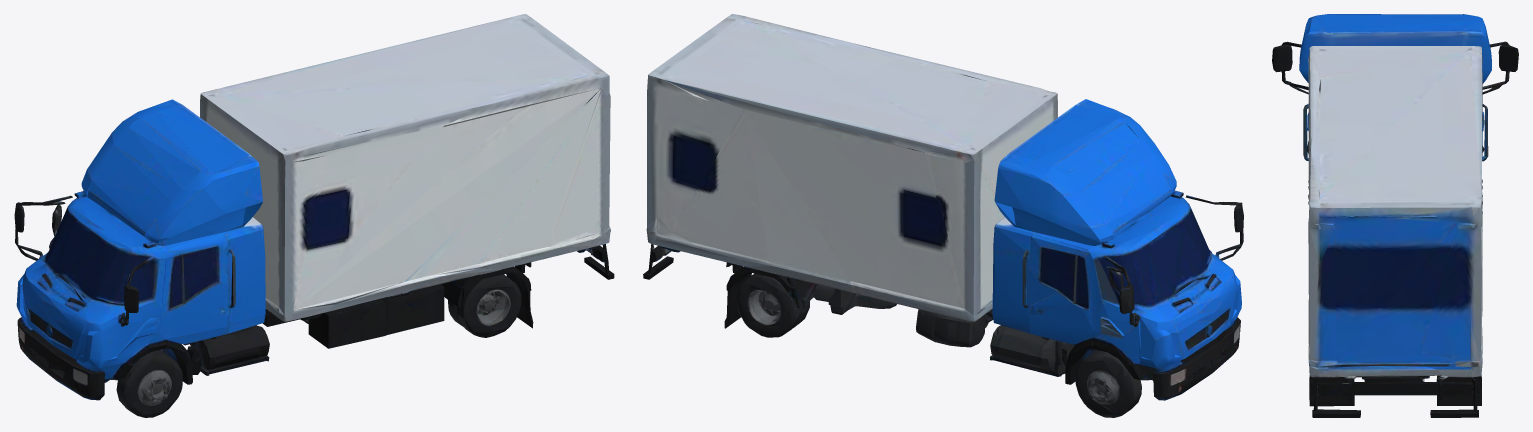
The model's file is truk.glb.
The picture shows the model from 3 angles, left to right: view 1: azimuth 30°, elevation 25°; view 2: azimuth 150°, elevation 25°; view 3: azimuth 270°, elevation 25°; orthographic projection.
Bounding box in the file's own units: 1.9 × 0.8108 × 0.7555.
1 material, 1 textured.
